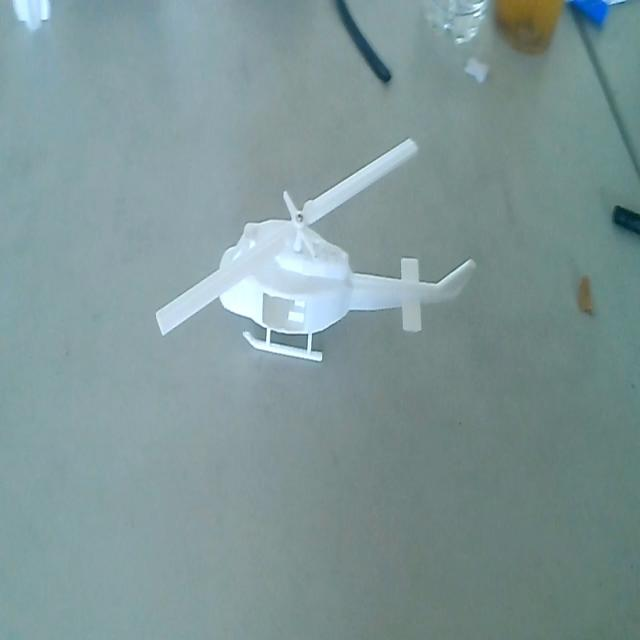Helicopter: (151, 126, 477, 391)
